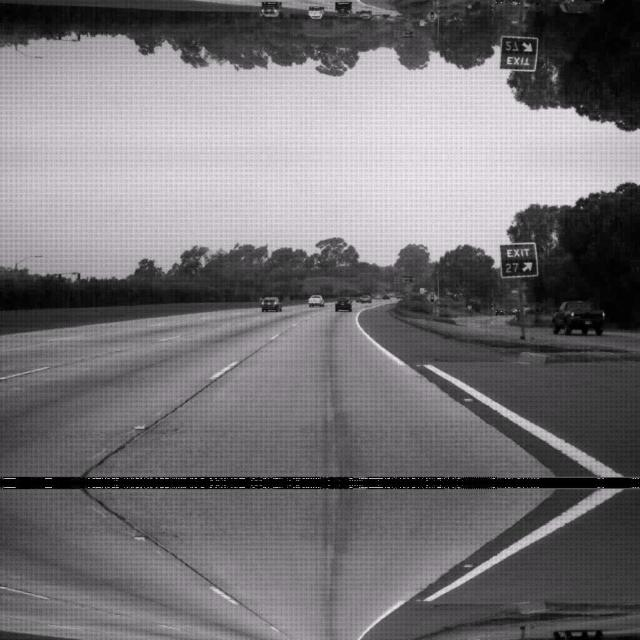signalAhead: (424, 290, 438, 302), (424, 10, 438, 22)
